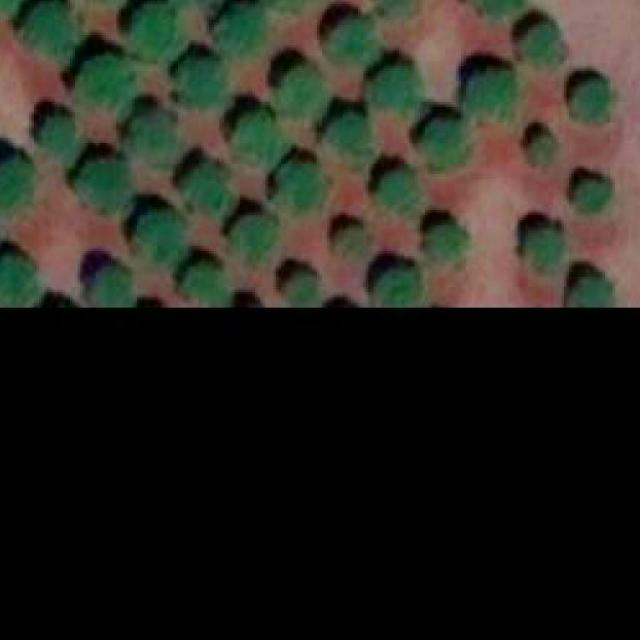Tree: (24, 0, 78, 61), (75, 56, 132, 107), (75, 162, 132, 213), (327, 115, 377, 170), (137, 213, 186, 268), (464, 69, 516, 120), (233, 114, 284, 164), (276, 66, 325, 115), (178, 264, 233, 306), (276, 161, 325, 208), (132, 4, 176, 56), (130, 112, 174, 162), (420, 120, 466, 167), (370, 69, 420, 110), (232, 215, 276, 261), (329, 20, 379, 60), (187, 164, 230, 210), (222, 8, 266, 52), (178, 61, 224, 102), (0, 259, 39, 306), (523, 23, 564, 67), (373, 270, 420, 306), (425, 226, 466, 266), (381, 174, 420, 213), (90, 270, 132, 306), (574, 81, 610, 122), (526, 230, 562, 270), (0, 158, 29, 205), (566, 280, 615, 305), (471, 0, 528, 21), (574, 182, 608, 213), (39, 117, 73, 146), (379, 0, 425, 19), (336, 229, 370, 254), (528, 138, 557, 167), (286, 275, 317, 300)
